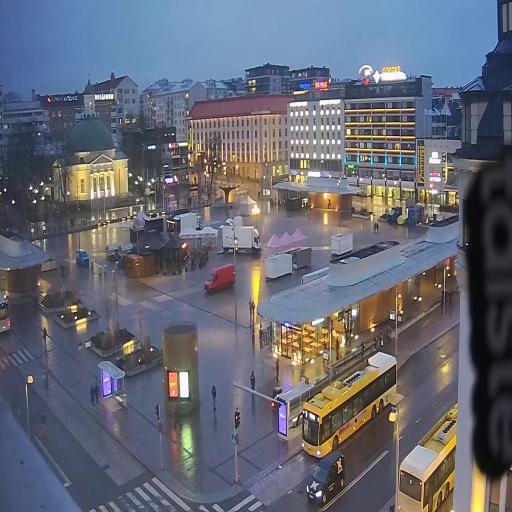bus: (295, 344, 404, 458), (396, 393, 464, 512), (0, 287, 14, 342)
delivery: (304, 441, 347, 504), (220, 226, 264, 260), (202, 258, 238, 296), (172, 204, 206, 240), (223, 210, 244, 234), (74, 245, 90, 273)
